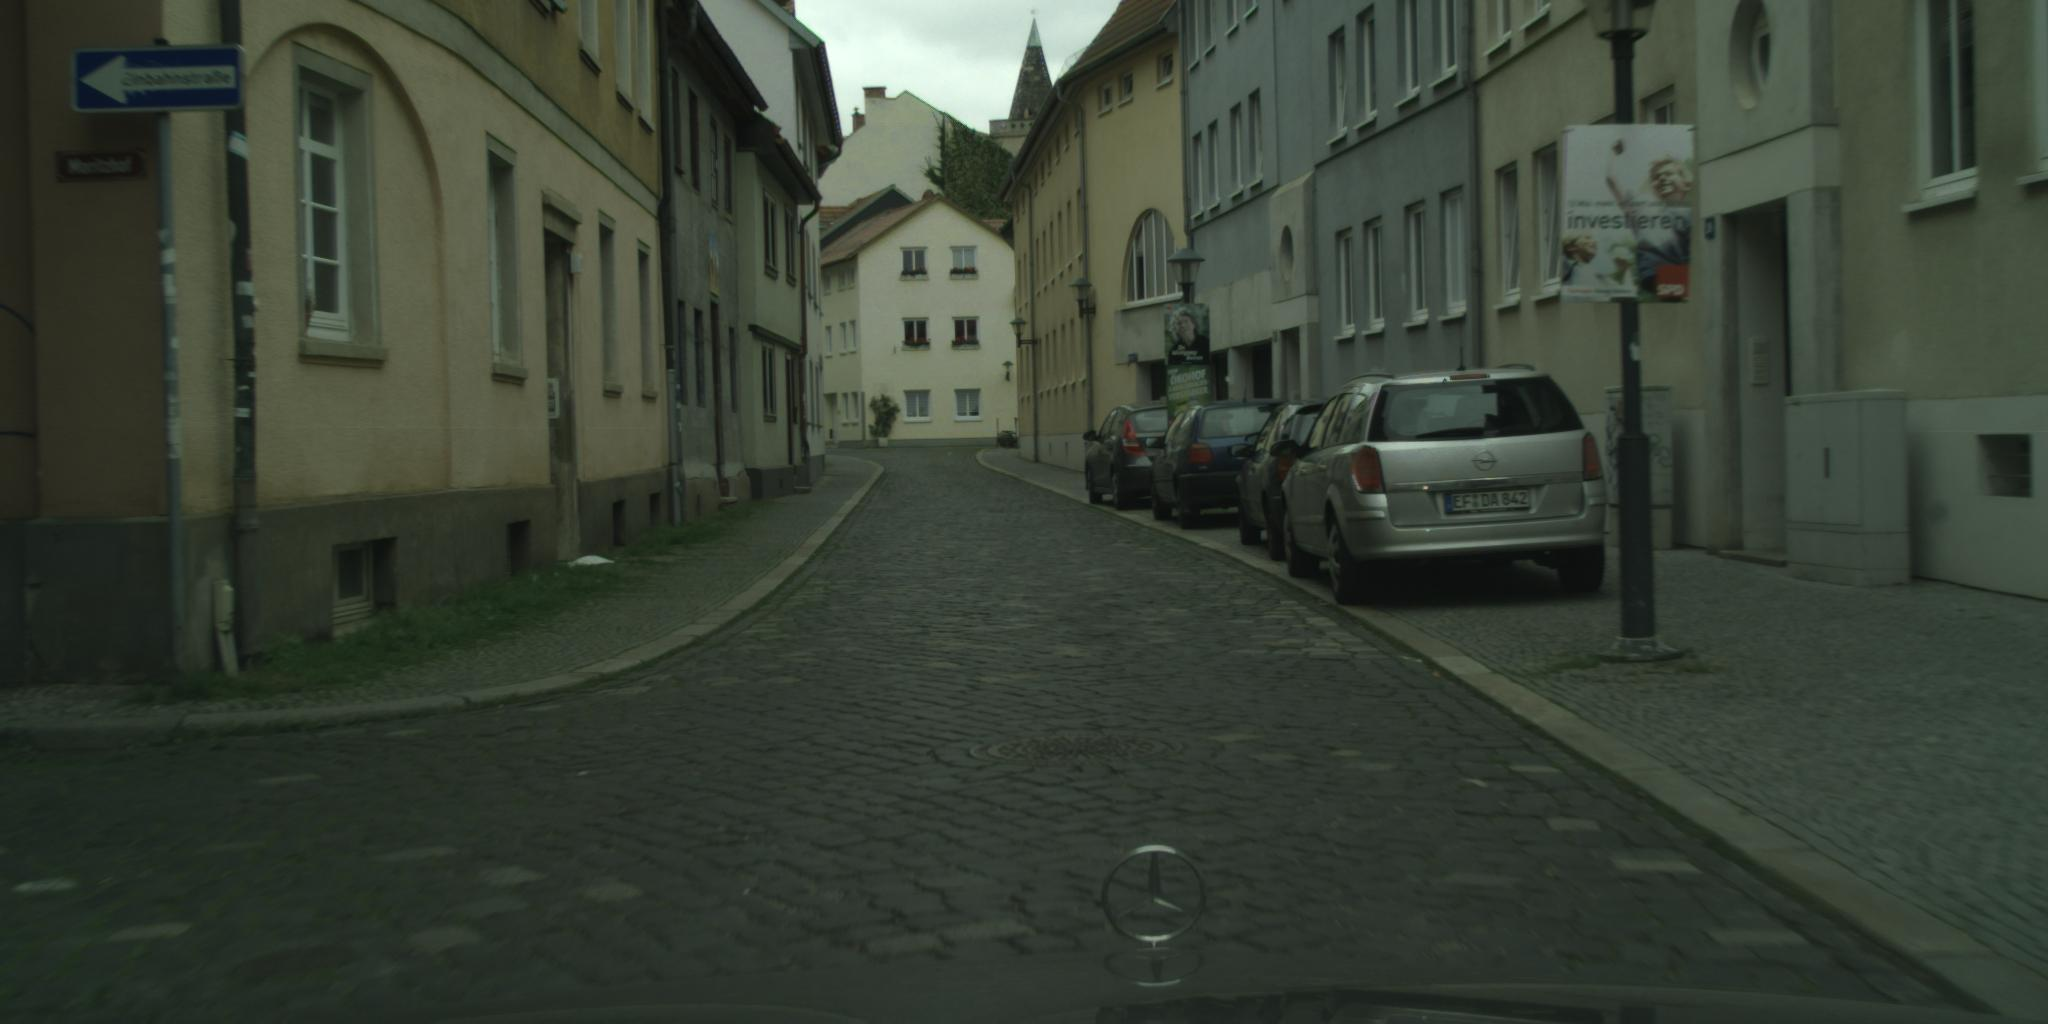car: (1268, 364, 1612, 609), (1228, 398, 1348, 563), (1145, 400, 1293, 532), (1083, 400, 1183, 512)
